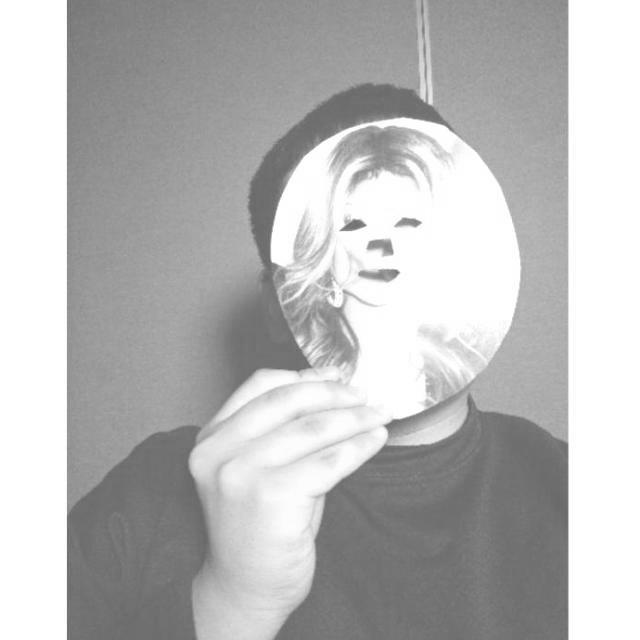fake: (268, 120, 520, 426)
